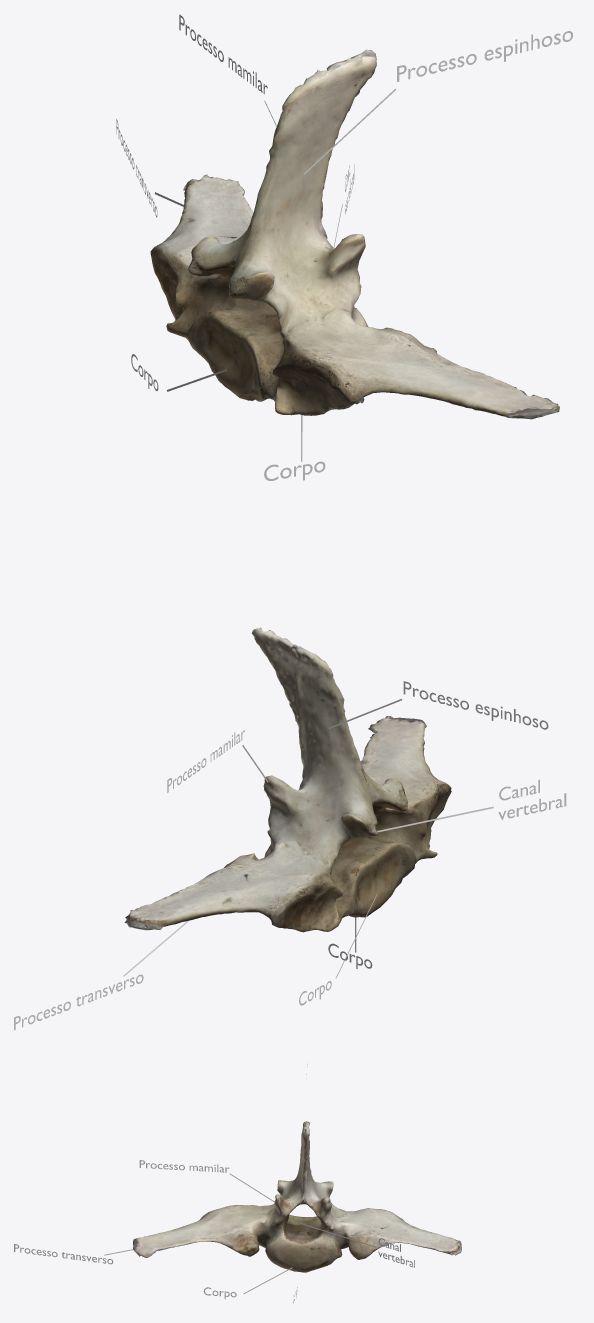
The model's file is 5ª_Vértebra_Lombar.glb.
3 views of the same model, one above another, from view 1: azimuth 30°, elevation 25°; view 2: azimuth 150°, elevation 25°; view 3: azimuth 270°, elevation 25° (orthographic). The views are drawn at different scales.
Parts seen in each view (by area): view 1: 3DModel_LowPoly, Texto.004; view 2: 3DModel_LowPoly, Texto.002, Texto.019, Texto.015; view 3: 3DModel_LowPoly, Texto.003, Texto.026.
Part boxes in pixels (x1,y1,x2,y2): 3DModel_LowPoly: (150,49,559,419); Texto.004: (397,31,572,81); 3DModel_LowPoly: (124,627,451,932); Texto.002: (403,681,548,729); Texto.019: (14,974,143,1030); Texto.015: (498,779,566,820); 3DModel_LowPoly: (133,1121,461,1272); Texto.003: (14,1244,112,1264); Texto.026: (139,1160,229,1172).
Bounding box in the file's own units: 2.7 × 1.87 × 4.83.
Materials: 1 (1 with a texture image).
